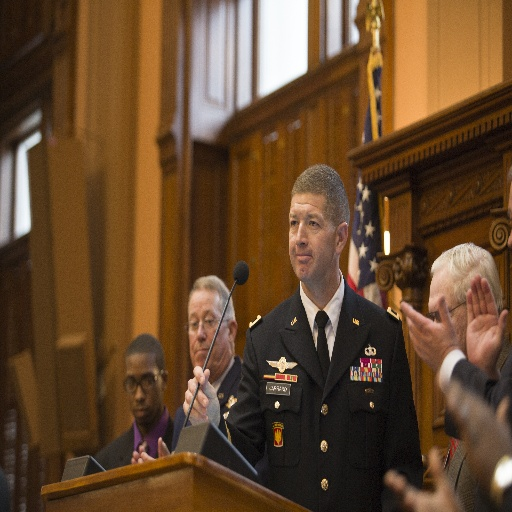hand: (443, 377, 510, 481), (383, 445, 466, 511), (397, 293, 459, 375), (465, 273, 509, 374), (182, 366, 220, 427), (135, 437, 168, 464), (129, 444, 146, 464)
